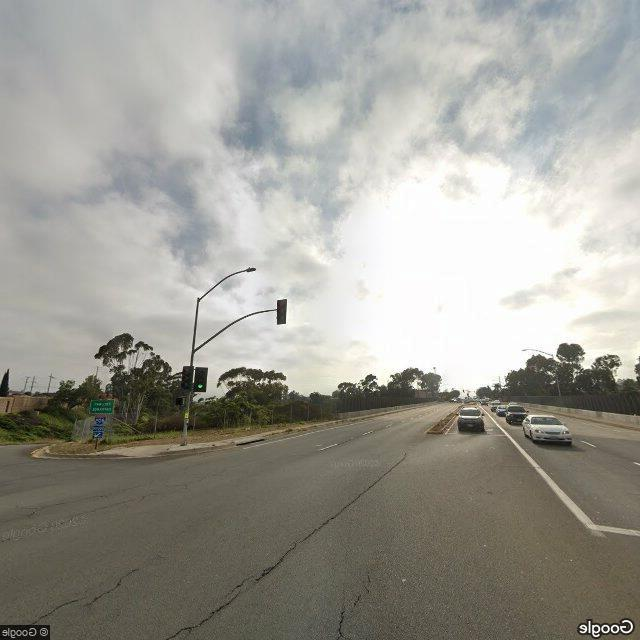crack: (180, 451, 406, 632), (31, 562, 147, 623), (330, 568, 377, 638)
